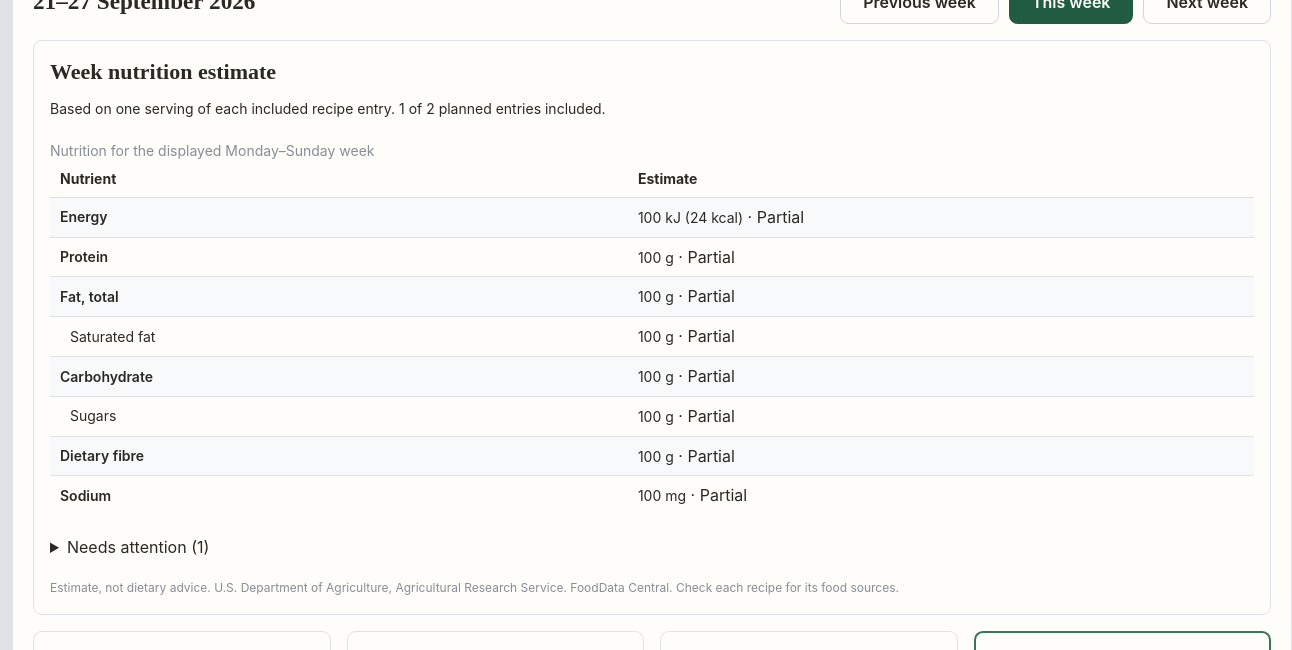
Test: meal-plan nutrition display › shows eight week rows, a day disclosure, and an actionable gap
Expected: the text "100 kJ (24 kcal)" is shown, [638, 209, 743, 226]
Expected: the text "1 of 2 planned entries included" is shown, [50, 100, 606, 117]
Step 1. Click the heading "Needs attention (1)" → (138, 547), box [67, 537, 209, 557]
(page scrolled)
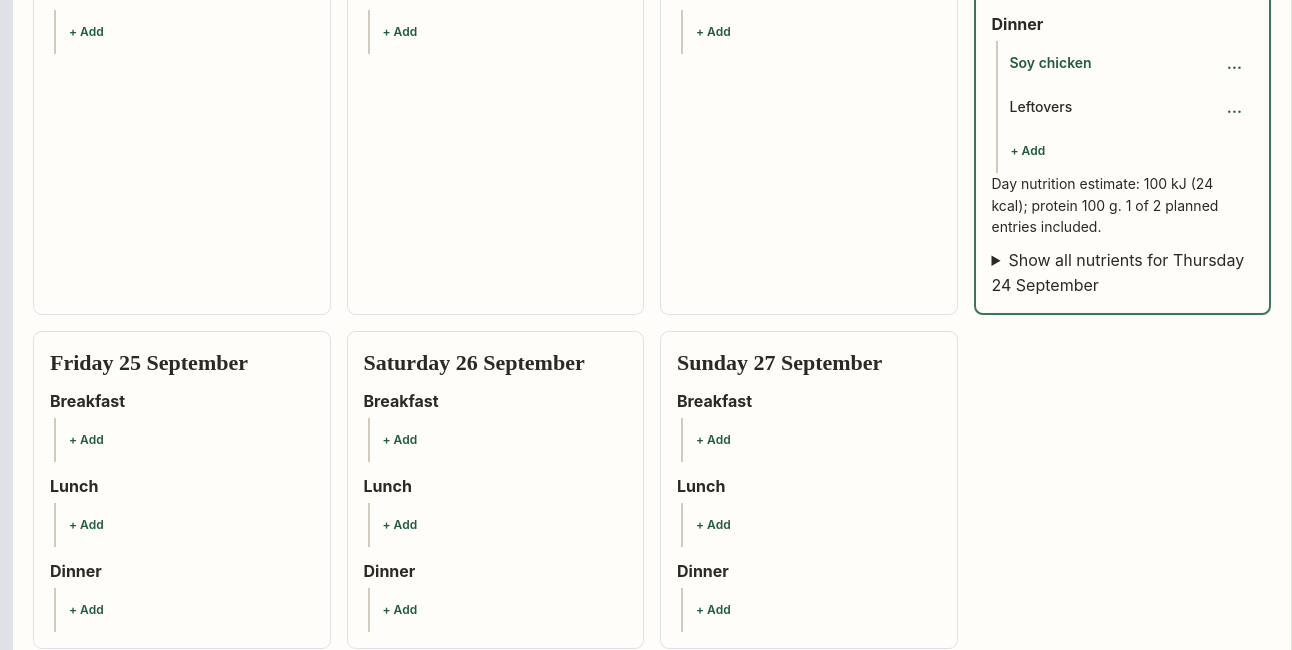
Expected: the element with test id "plan-day-nutrition" shows "100 kJ (24 kcal)", [992, 175, 1213, 214]
Step 2. Click the heading "Show all nutrients for Thursday 24 September" → (1122, 268), box [992, 238, 1253, 298]
(page scrolled)
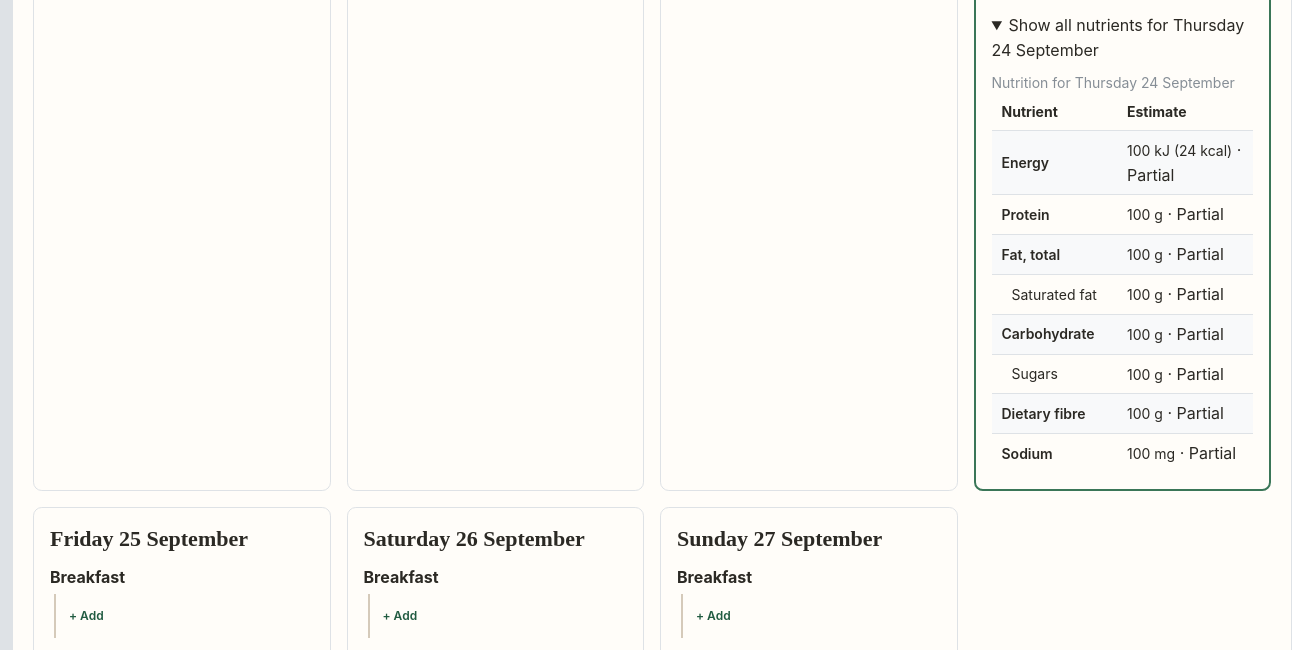
Now the table is shown, box [992, 62, 1253, 473]
